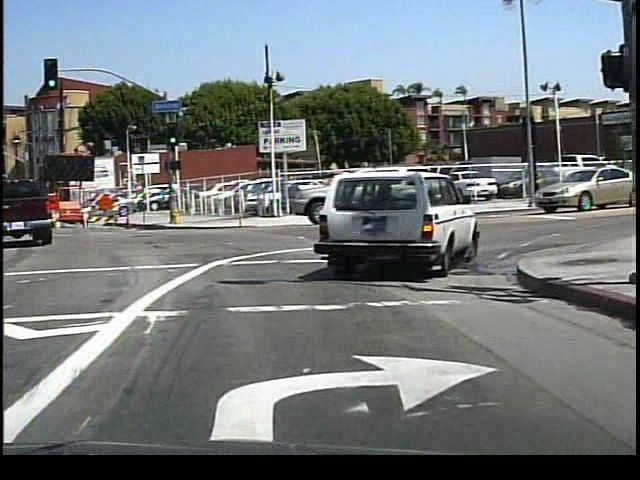person: (522, 162, 542, 206)
